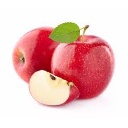apple: (27, 69, 80, 107)
